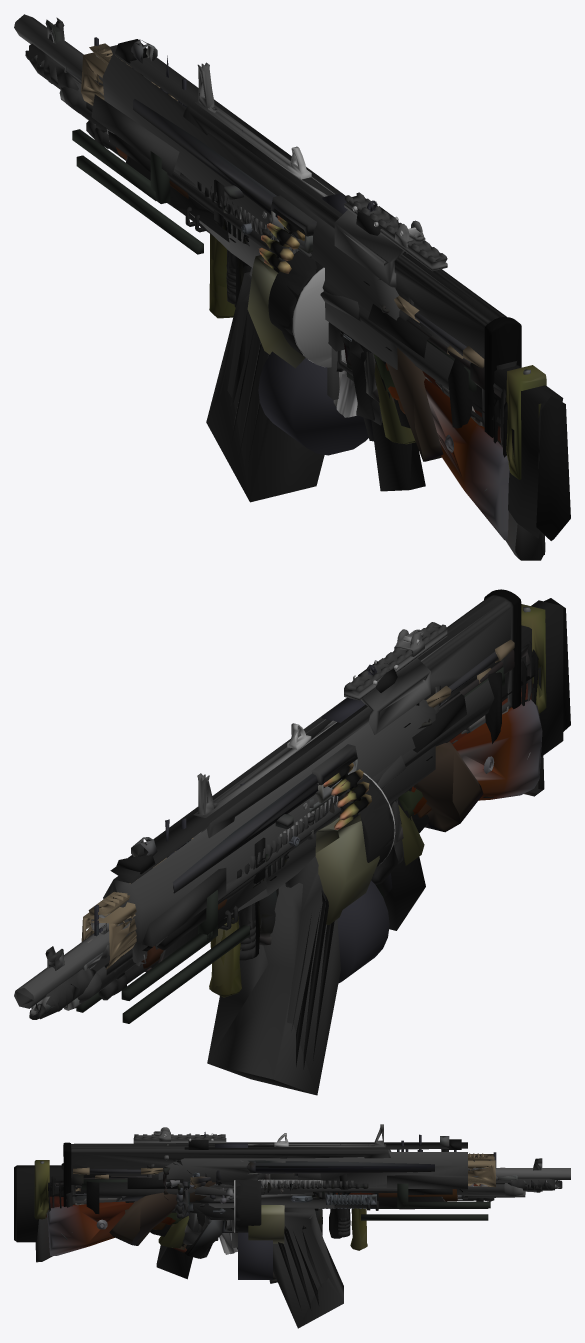
The model's file is world-lods.glb.
The picture shows the model from 3 angles, top to bottom: view 1: azimuth 30°, elevation 25°; view 2: azimuth 150°, elevation 25°; view 3: azimuth 270°, elevation 25°; orthographic projection. The views are drawn at different scales.
Parts seen in each view (by area): view 1: sa12_mid, aa12_mid, mg60_mid, lm86_mid, mk14_mid, kr98_mid, aa12_far, db2_mid, sa12_far, s12_mid, mg60_far, lm86_far (+11 smaller); view 2: sa12_mid, aa12_mid, mg60_mid, aa12_far, mk14_mid, kr98_mid, lm86_mid, sa12_far, db2_mid, mg60_far, s12_mid, sg56_mid (+13 smaller); view 3: sa12_mid, aa12_mid, db2_mid, sa12_far, kr98_mid, mg60_mid, lm86_mid, mk14_mid, s12_mid, sc17_mid, sc17_far, sg56_mid (+15 smaller).
Boxes of the visible parts, left/top/right/bottom form: sa12_mid: left=73, top=39, right=570, bottom=540; aa12_mid: left=96, top=55, right=521, bottom=437; mg60_mid: left=64, top=39, right=546, bottom=479; lm86_mid: left=72, top=100, right=507, bottom=491; mk14_mid: left=29, top=43, right=472, bottom=428; kr98_mid: left=385, top=366, right=509, bottom=540; aa12_far: left=200, top=63, right=488, bottom=418; db2_mid: left=133, top=99, right=443, bottom=461; sa12_far: left=108, top=99, right=563, bottom=537; s12_mid: left=14, top=14, right=545, bottom=560; mg60_far: left=75, top=41, right=545, bottom=459; lm86_far: left=190, top=222, right=507, bottom=449; sa12_mid: left=89, top=598, right=570, bottom=1094; aa12_mid: left=91, top=589, right=521, bottom=960; mg60_mid: left=82, top=606, right=546, bottom=997; aa12_far: left=101, top=604, right=511, bottom=959; mk14_mid: left=35, top=672, right=501, bottom=1019; kr98_mid: left=109, top=699, right=542, bottom=961; lm86_mid: left=123, top=649, right=538, bottom=1000; sa12_far: left=112, top=816, right=425, bottom=1095; db2_mid: left=172, top=741, right=483, bottom=893; mg60_far: left=131, top=604, right=544, bottom=993; s12_mid: left=14, top=758, right=544, bottom=1008; sg56_mid: left=81, top=639, right=514, bottom=969; sa12_mid: left=14, top=1135, right=510, bottom=1327; aa12_mid: left=63, top=1125, right=491, bottom=1237; db2_mid: left=109, top=1161, right=434, bottom=1244; sa12_far: left=17, top=1152, right=504, bottom=1328; kr98_mid: left=46, top=1180, right=547, bottom=1255; mg60_mid: left=34, top=1132, right=517, bottom=1250; lm86_mid: left=48, top=1149, right=490, bottom=1279; mk14_mid: left=86, top=1177, right=554, bottom=1247; s12_mid: left=35, top=1168, right=570, bottom=1262; sc17_mid: left=66, top=1173, right=462, bottom=1258; sc17_far: left=66, top=1172, right=461, bottom=1258; sg56_mid: left=61, top=1149, right=495, bottom=1249.
Size of the model in its own units: 0.1422 by 0.4896 by 1.27.
